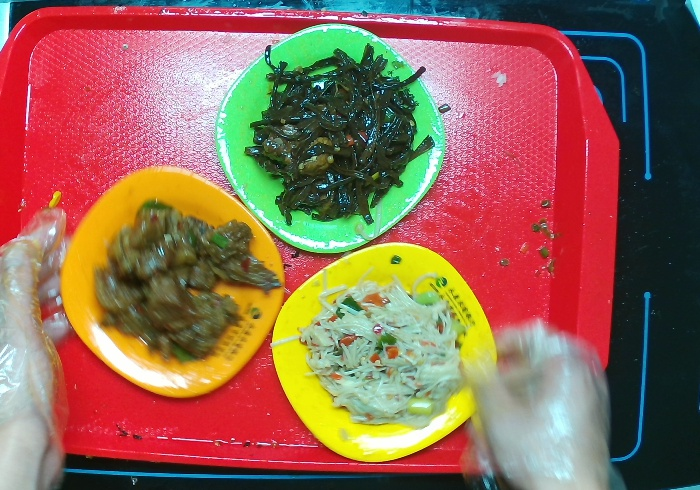YKMZ-Huang_Se_Fang_Die: (271, 239, 495, 464)
YKMZ-Ju_Se_Fang_Die: (57, 161, 281, 402)
YKMZ-Lv_Se_Fang_Die: (216, 22, 445, 258)
